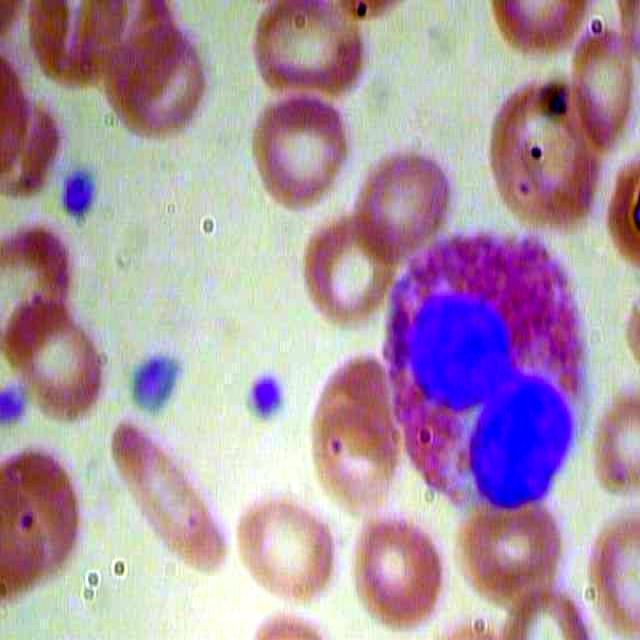Platelets: (121, 346, 189, 426), (239, 367, 291, 428), (57, 158, 104, 222), (1, 381, 29, 436)
RBC: (106, 420, 226, 571), (304, 349, 400, 516), (1, 295, 108, 429), (346, 513, 456, 635), (241, 97, 351, 219), (250, 2, 366, 114), (233, 490, 338, 602), (289, 214, 394, 326), (350, 146, 455, 258), (457, 496, 562, 608), (104, 27, 209, 138), (563, 26, 640, 150), (582, 505, 639, 640)
WBC: (367, 222, 611, 526)
